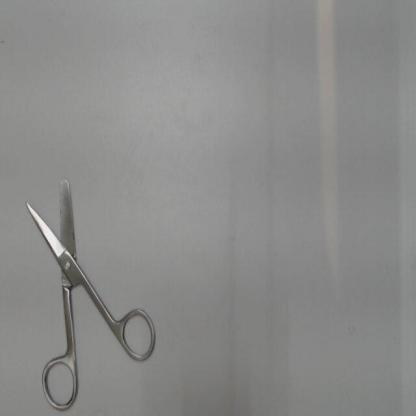Dressing Scissors: (21, 167, 161, 415)
